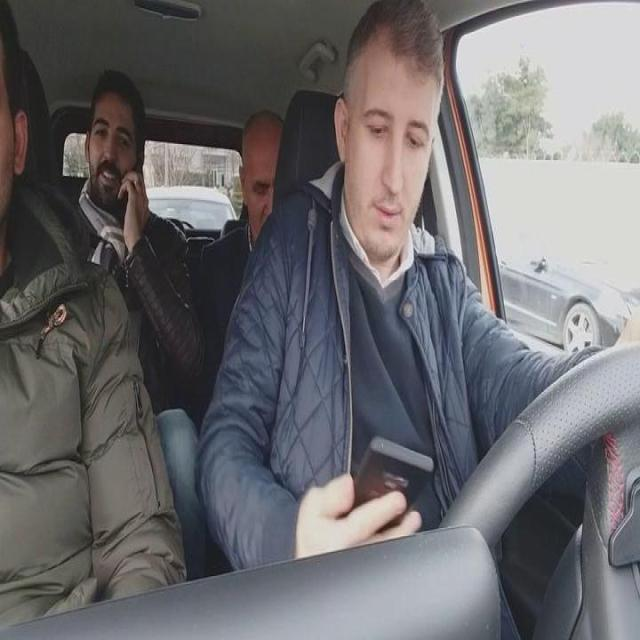phone: (344, 434, 439, 520)
